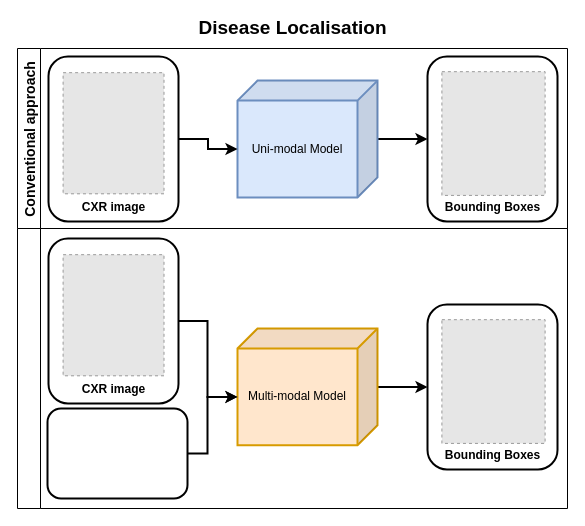
The diagram is 585 pixels wide and 526 high, and some of its shapes have lost their labels. Grey dashed boxes stand in for pictures. The box of each missing label's shape, as (x1, y1, x2, y2) in pixels:
Clinical Data (gender, age, heart rate, respiratory rate, temperature, etc.): (46, 407, 188, 499)
This work: (16, 228, 568, 508)
